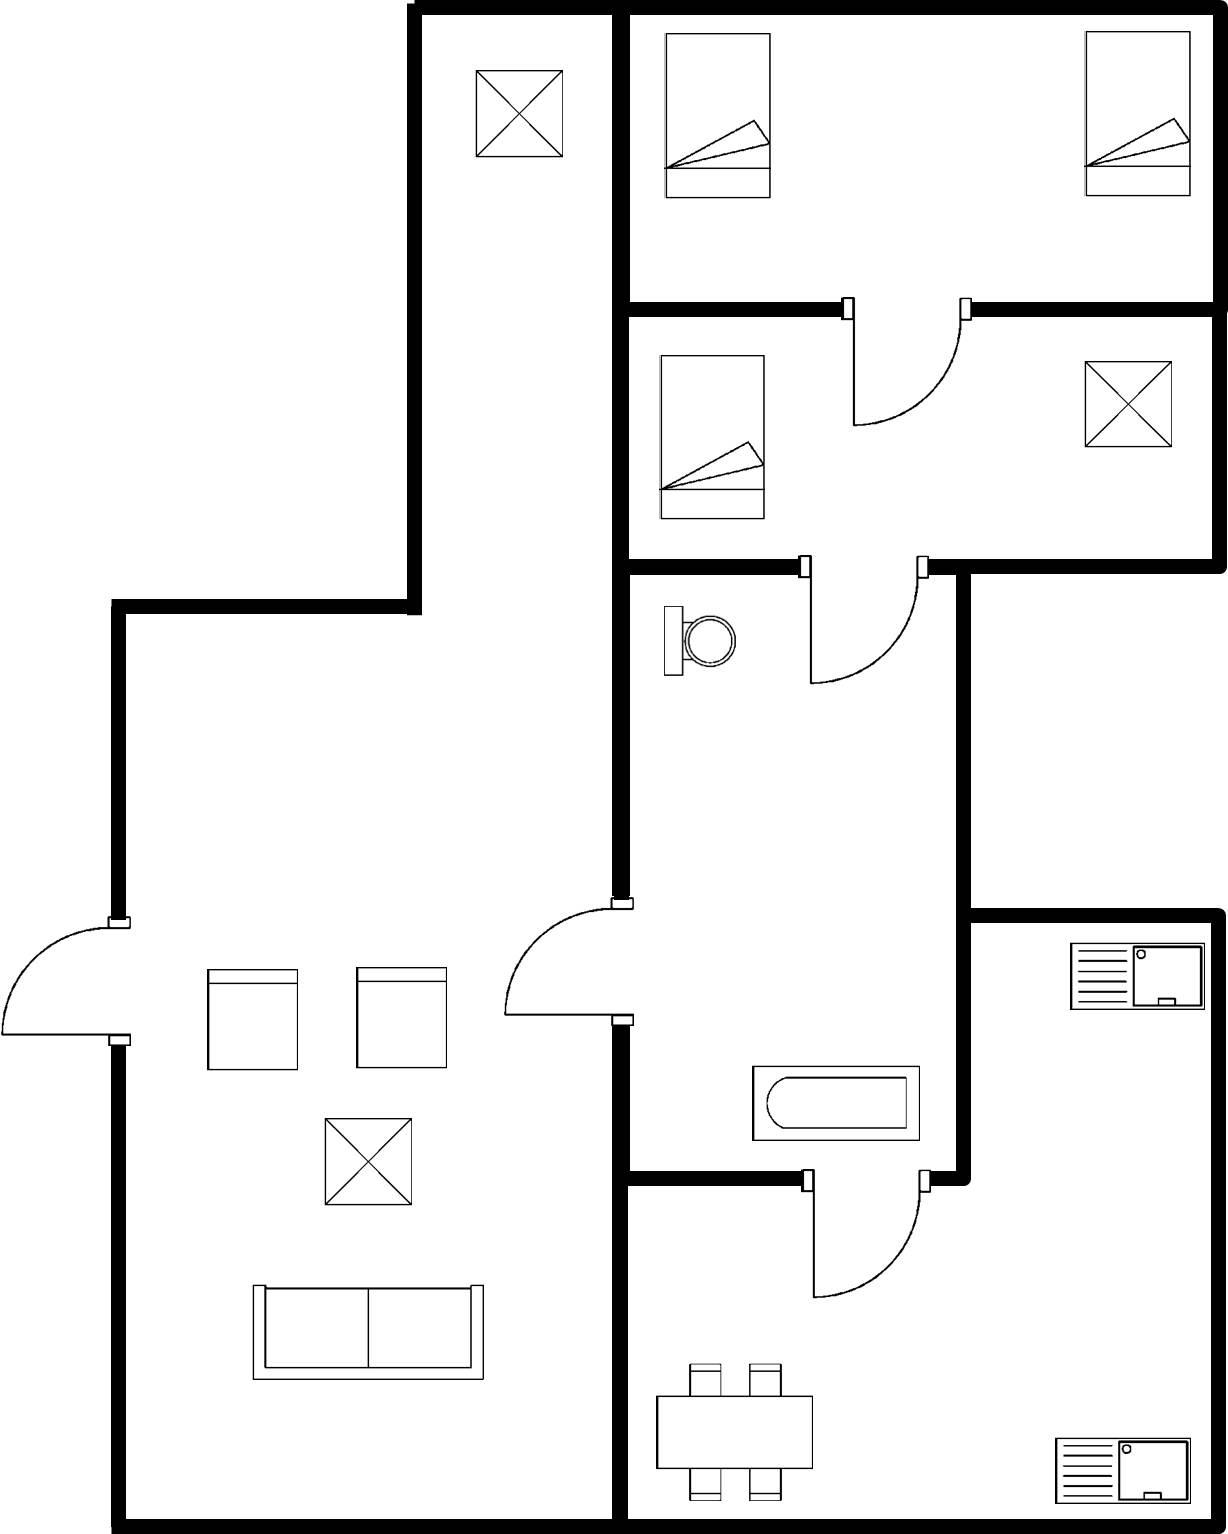bed: (655, 19, 783, 213), (648, 343, 776, 529), (1073, 20, 1200, 204)
dining_table: (643, 1354, 821, 1505)
sink: (1058, 931, 1205, 1021), (1048, 1427, 1200, 1510)
sofa: (237, 1271, 497, 1394)
toilet: (652, 592, 751, 689)
tub: (741, 1055, 929, 1150)
